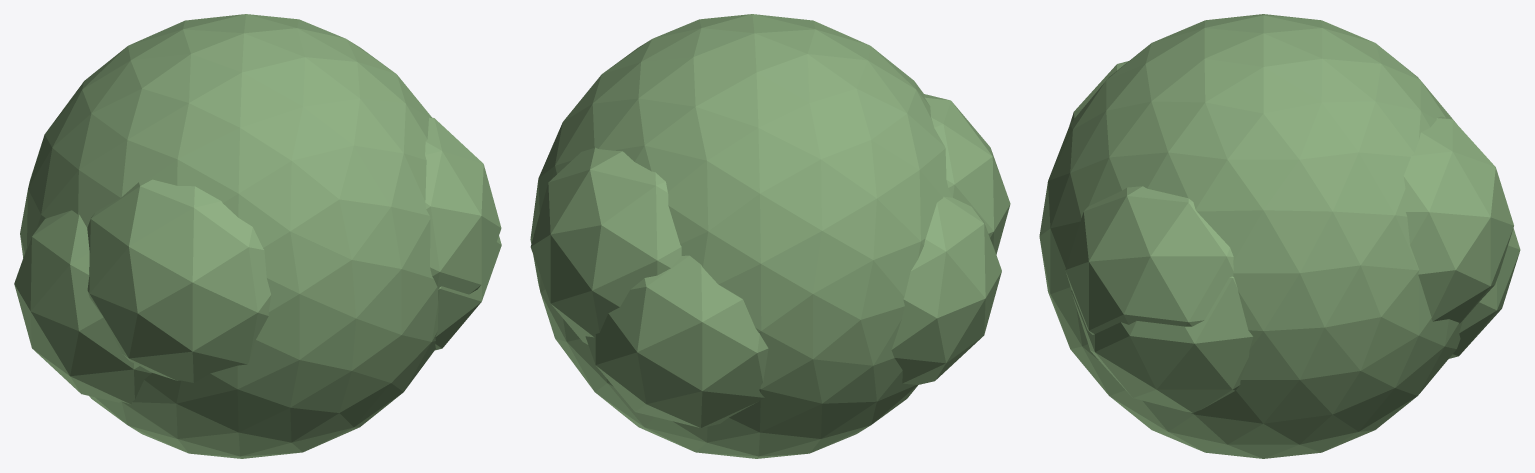
Rendered from bush.glb.
3 renders of one model, left to right at view 1: azimuth 30°, elevation 25°; view 2: azimuth 150°, elevation 25°; view 3: azimuth 270°, elevation 25°, orthographic.
Visible parts, largest first — view 1: bush_hedge; view 2: bush_hedge; view 3: bush_hedge.
Boxes of the visible parts, x1,y1,x2,y2 form: bush_hedge: (14,14,501,458); bush_hedge: (530,14,1010,458); bush_hedge: (1039,14,1520,458).
Size of the model in its own units: 1.11 by 1 by 1.07.
